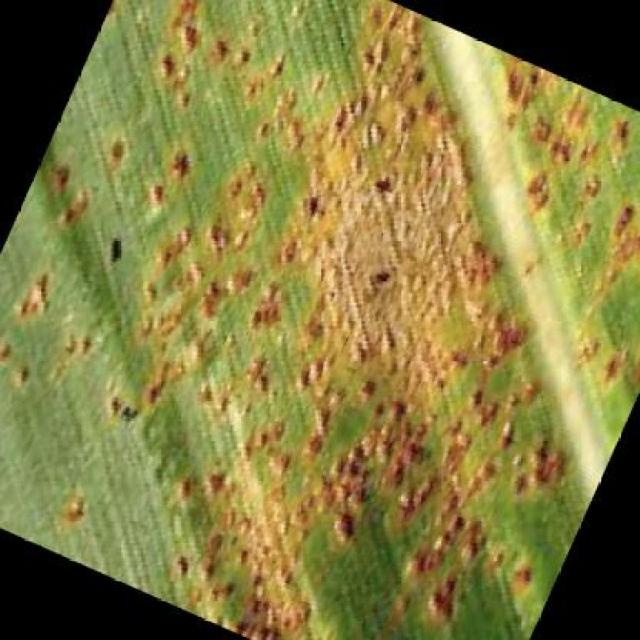Corn_Rust: (74, 83, 575, 520)
